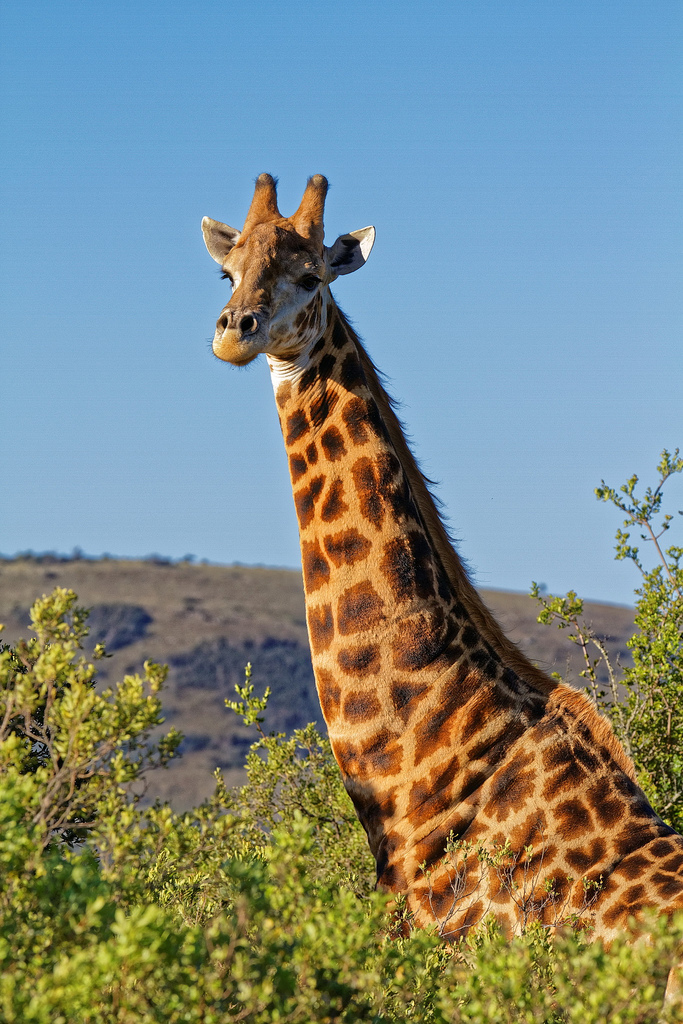giraffe: (173, 166, 651, 979)
